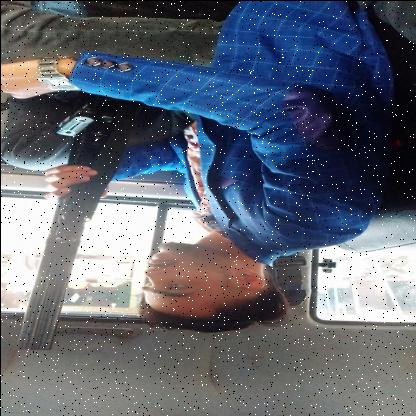rifle: (12, 88, 141, 350)
